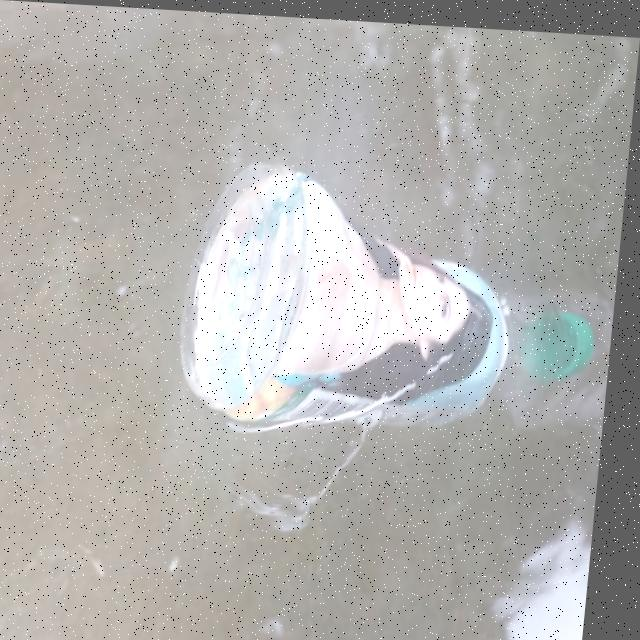waterbottle: (177, 145, 630, 454)
